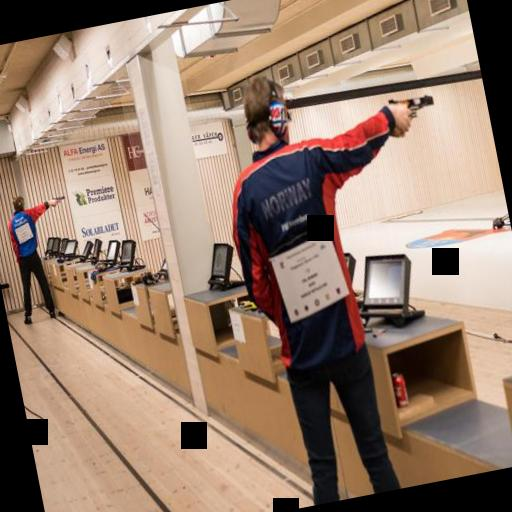Handgun: (381, 84, 439, 138), (48, 190, 70, 211)
